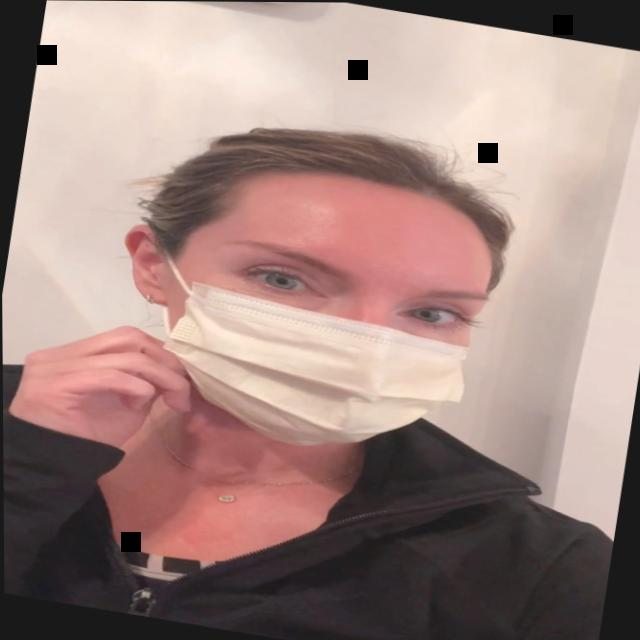Mask: (135, 145, 509, 472)
